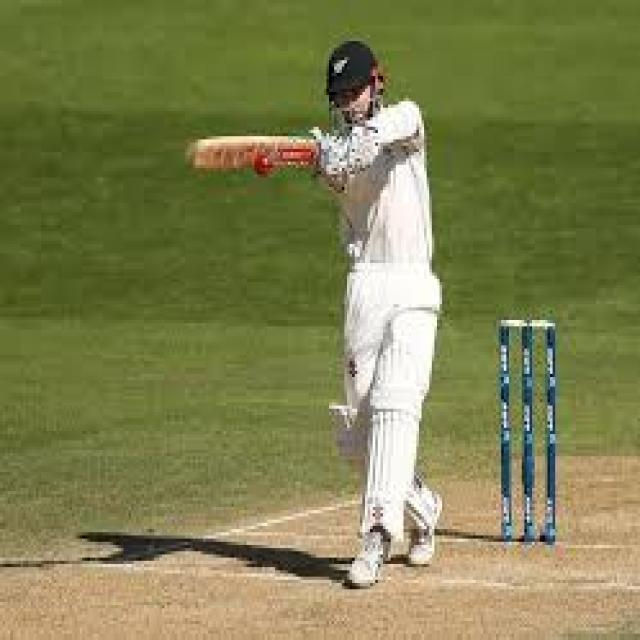toe: (179, 137, 213, 171)
